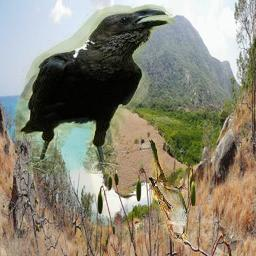Crow: (15, 4, 175, 174)
Sparrow: (150, 140, 189, 243)
